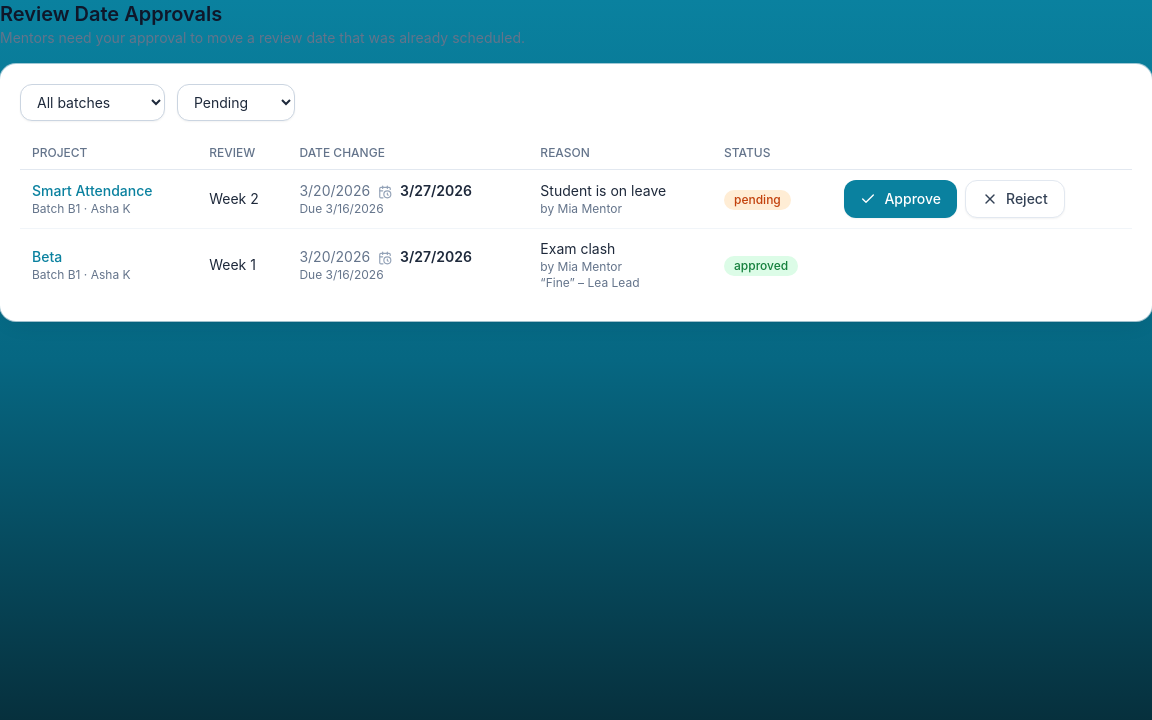
it: Date Approvals page › shows server errors inside the dialog (e.g. already decided)
Step 1. Click the button with aria-label "approve date change" → click(901, 199), box x1=844 y1=180 x2=957 y2=218
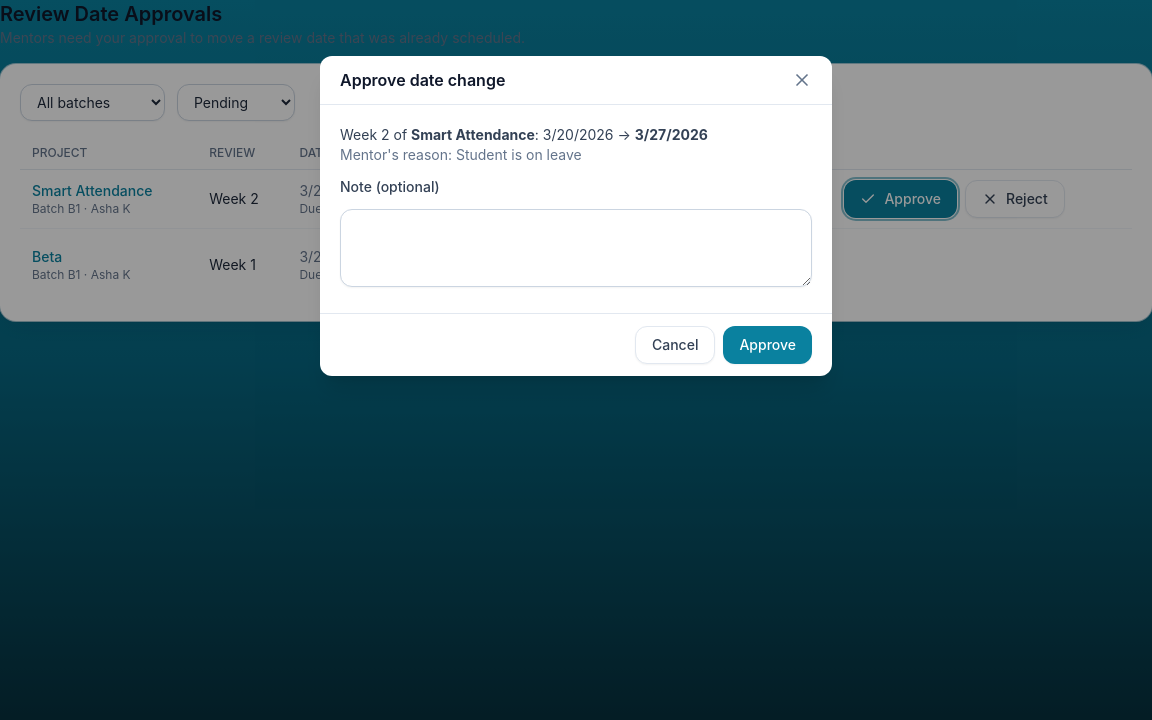
Step 2. Click the button "Approve" → click(768, 345), box x1=723 y1=326 x2=812 y2=364
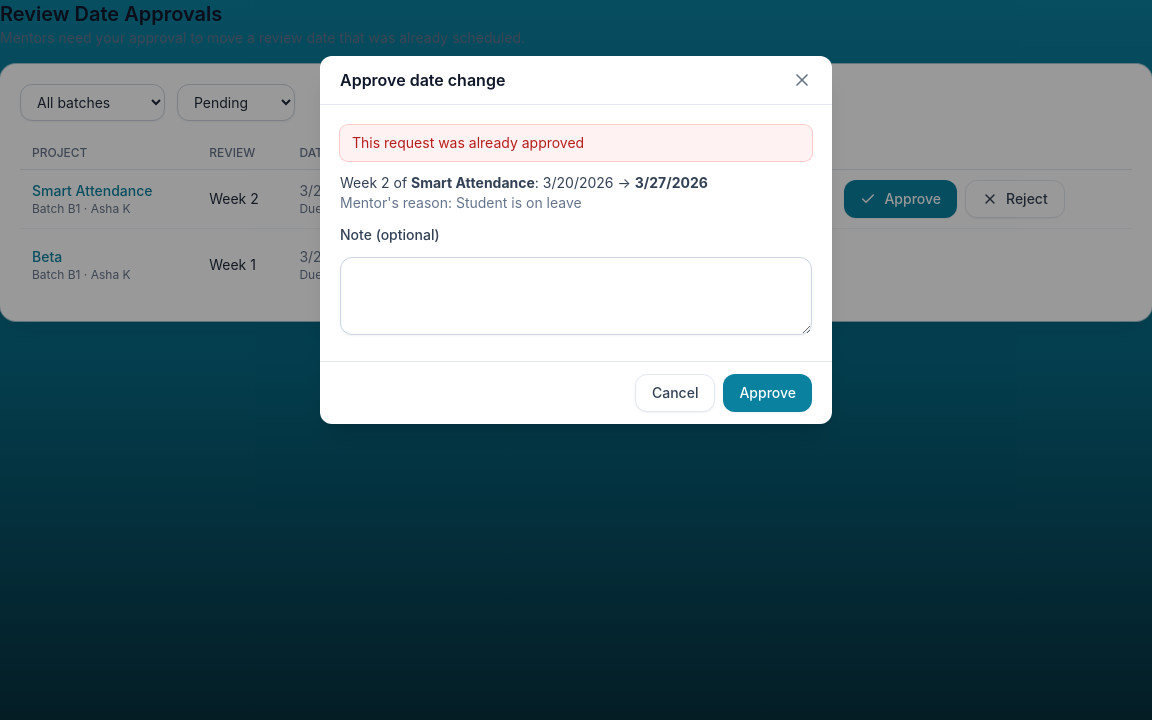
Expected: the message shows "already approved", x1=352 y1=134 x2=584 y2=151
